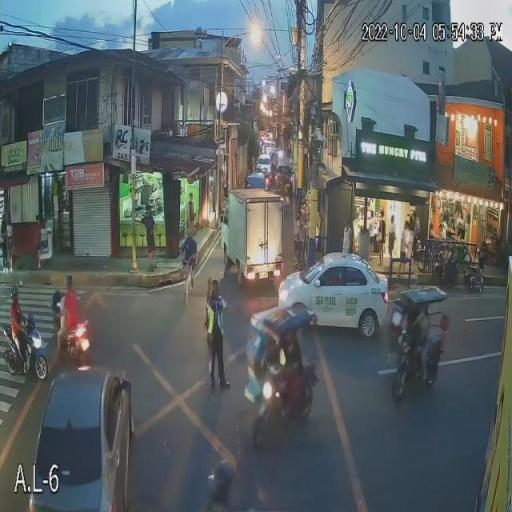helmet: (10, 287, 22, 305)
motorcycle: (245, 303, 319, 453), (386, 286, 450, 406), (2, 312, 51, 381), (60, 316, 91, 369)
rider: (270, 328, 312, 412), (402, 306, 434, 372), (58, 276, 84, 354), (10, 286, 32, 358), (178, 230, 198, 282)
